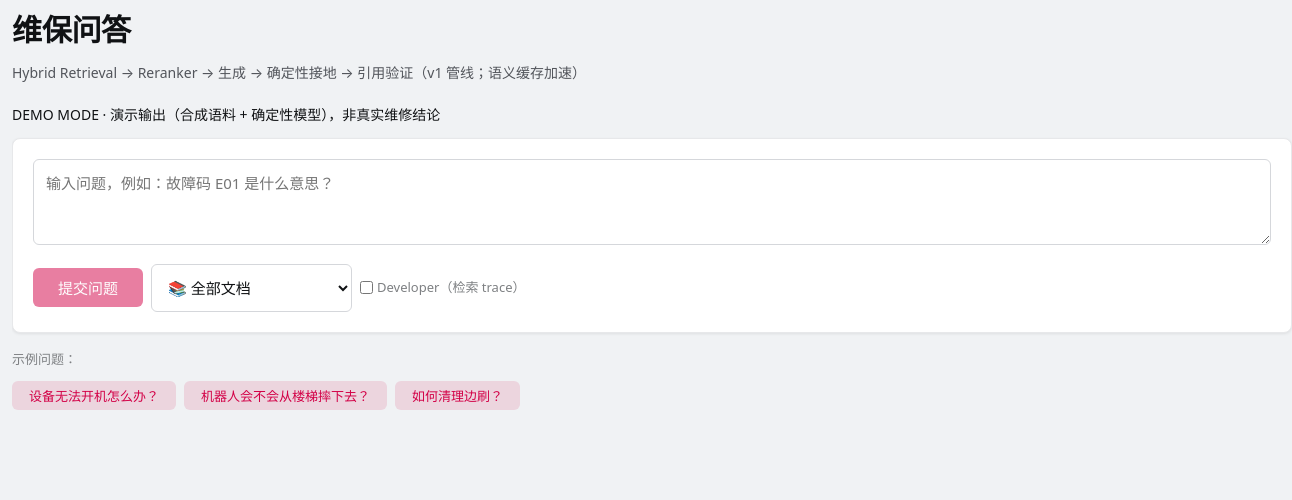
Scenario: QAPanel › shows API error box on failure
Type "故障码" into the text box with placeholder "输入问题，例如：故障码 E01 是什么意思？".
click(652, 202); type("故障码")  # box [33,159,1271,245]
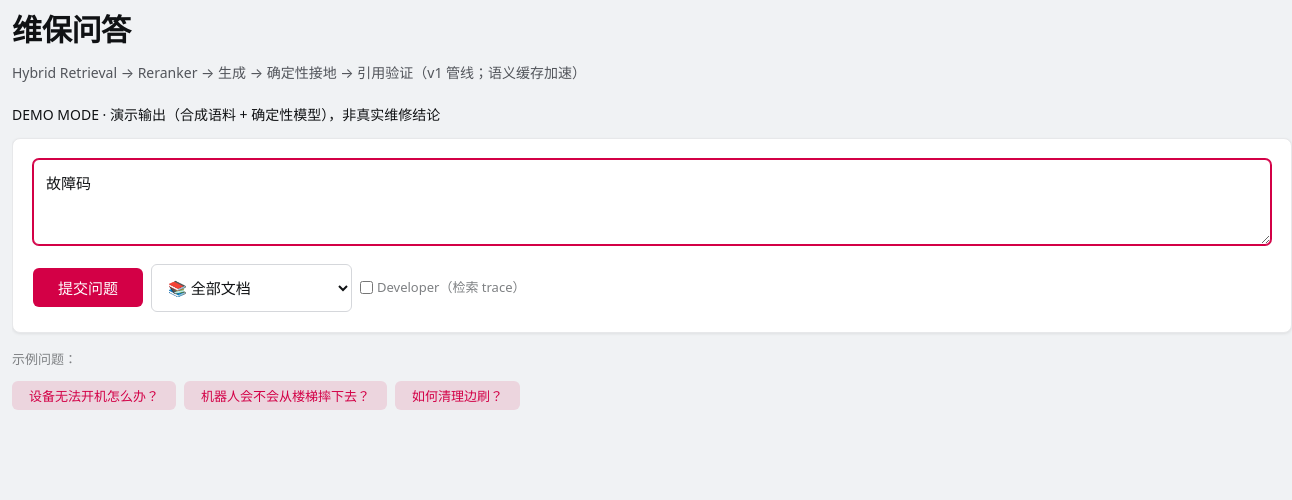
Click the button "提交问题".
click(88, 288)  # box [33,268,143,307]
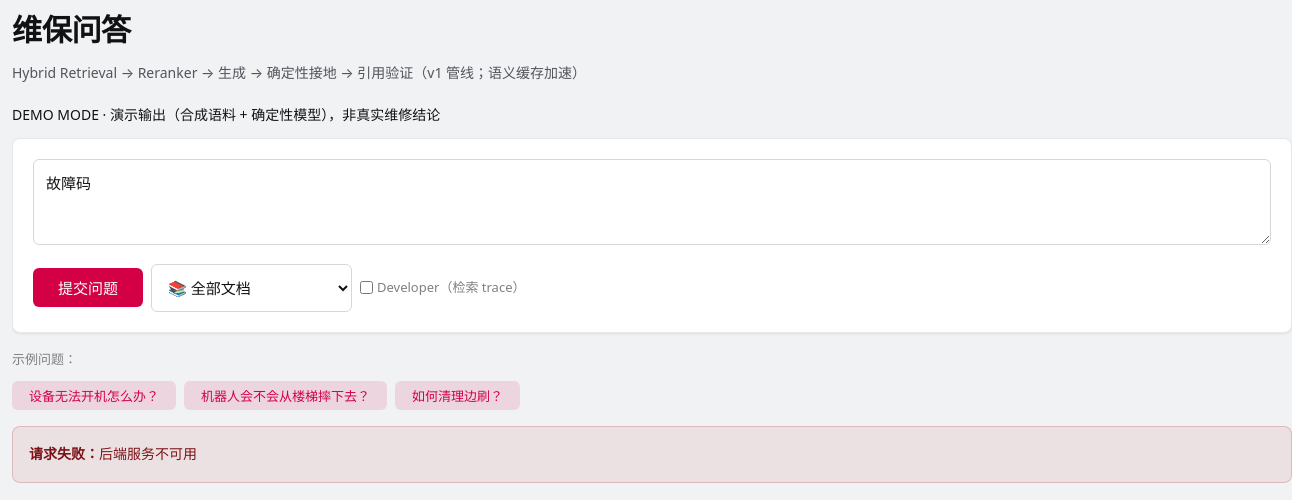
Result: the text "请求失败：后端服务不可用" is shown at [12,426,1291,483]
